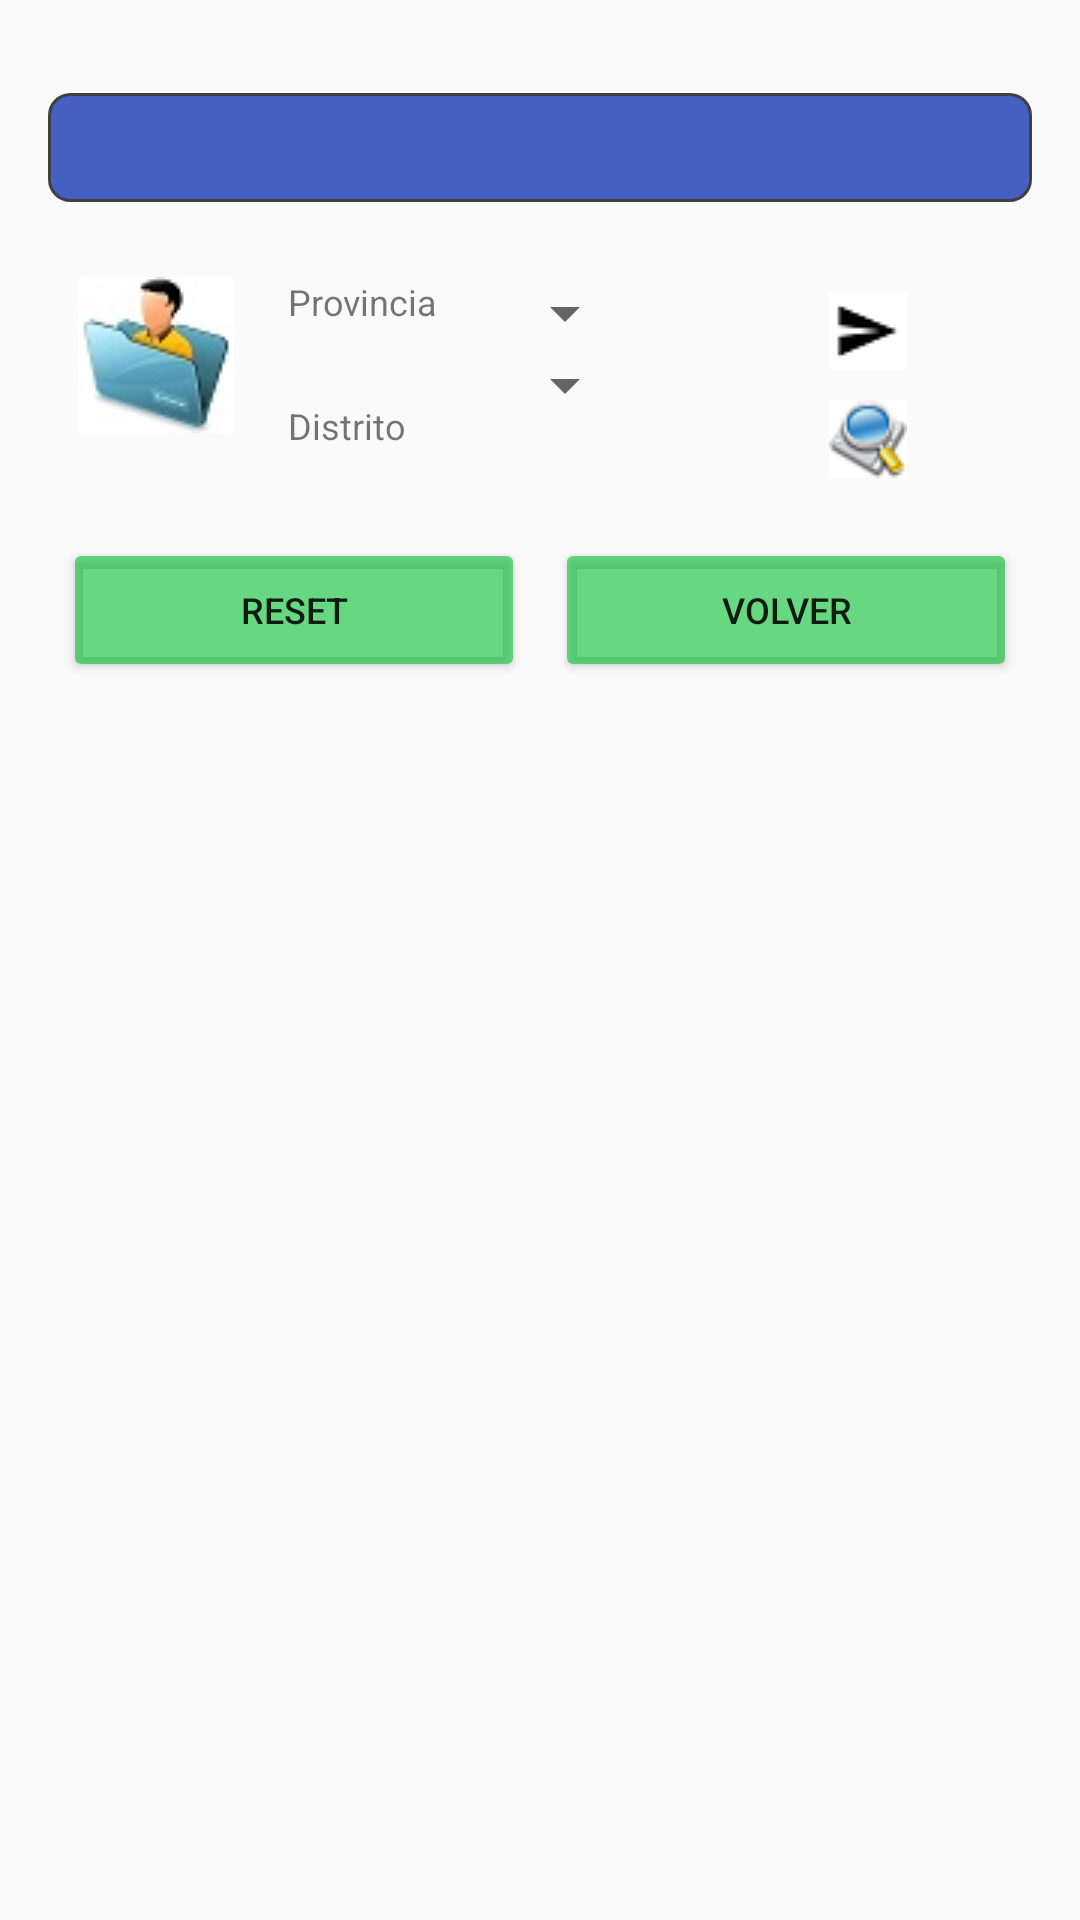

Locate icon controls on the screen. Image size 1080×1920, boxes as (x1, y1, x2, y2).
buscar: (829, 403, 907, 478)
expedientes: (83, 277, 229, 431)
siguiente: (837, 306, 896, 356)
